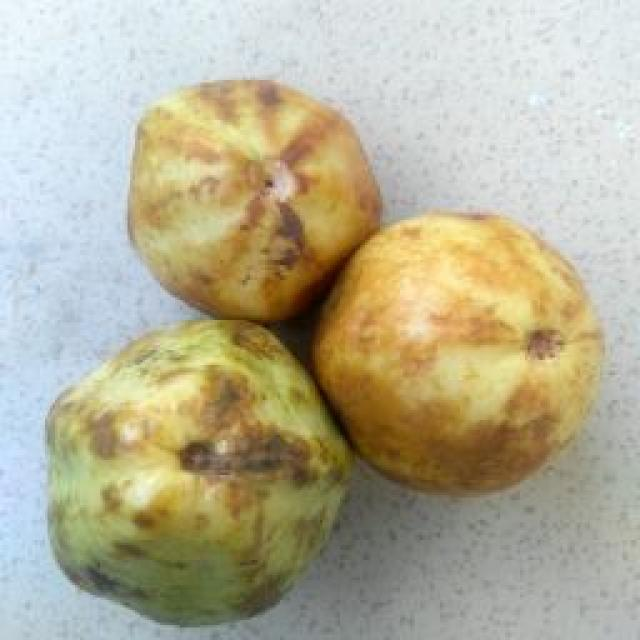Bad_Guava: (48, 320, 352, 623), (130, 81, 381, 321)
